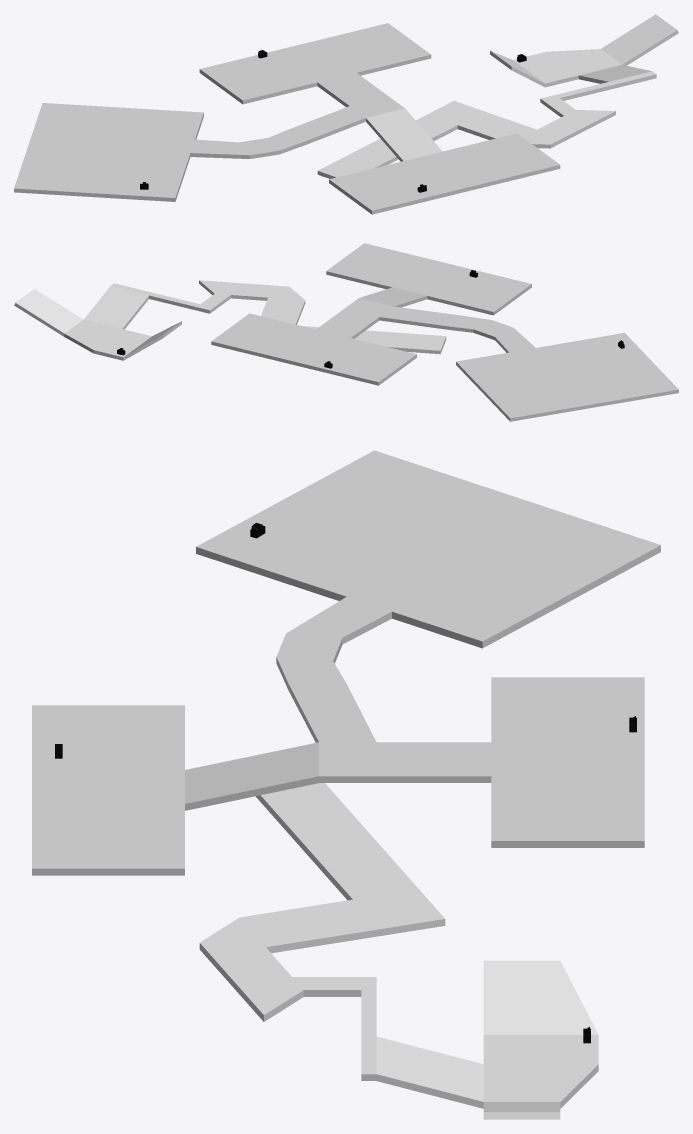
File: lvl.glb
The picture shows the model from 3 angles, top to bottom: view 1: azimuth 30°, elevation 25°; view 2: azimuth 150°, elevation 25°; view 3: azimuth 270°, elevation 25°; orthographic projection. The views are drawn at different scales.
Visible parts, largest first — view 1: tri0, tri1; view 2: tri0, tri1; view 3: tri0, tri1.
Part boxes in pixels (x1=…): tri0: x1=14, y1=23, x2=560, y2=214; tri1: x1=317, y1=14, x2=678, y2=178; tri0: x1=211, y1=243, x2=678, y2=421; tri1: x1=14, y1=280, x2=446, y2=360; tri0: x1=32, y1=450, x2=660, y2=875; tri1: x1=199, y1=783, x2=598, y2=1119.
Size of the model in its own units: 373 by 33.1 by 164.
Materials: 2 (1 with a texture image).
